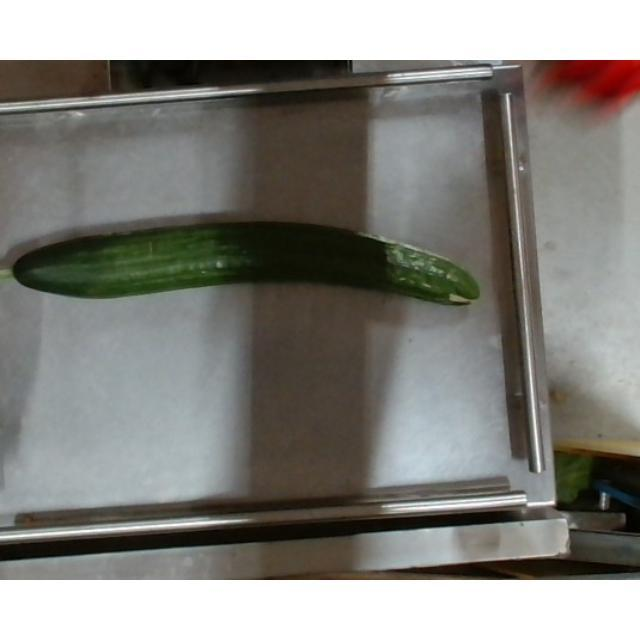cucumber: (1, 217, 482, 307)
